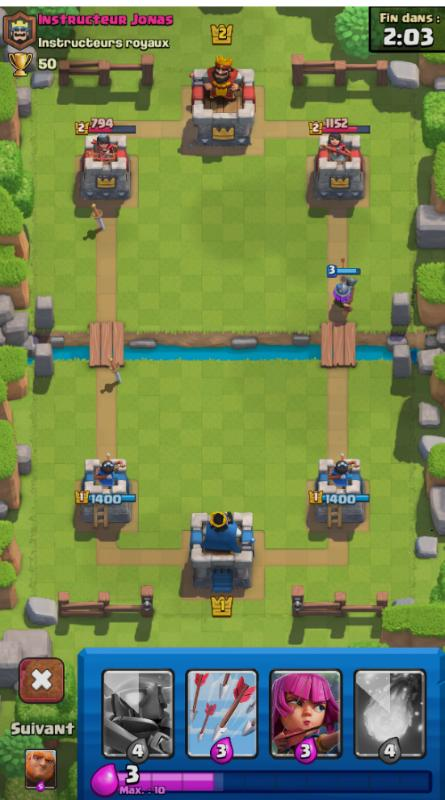mousquetaire: (322, 268, 367, 322)
